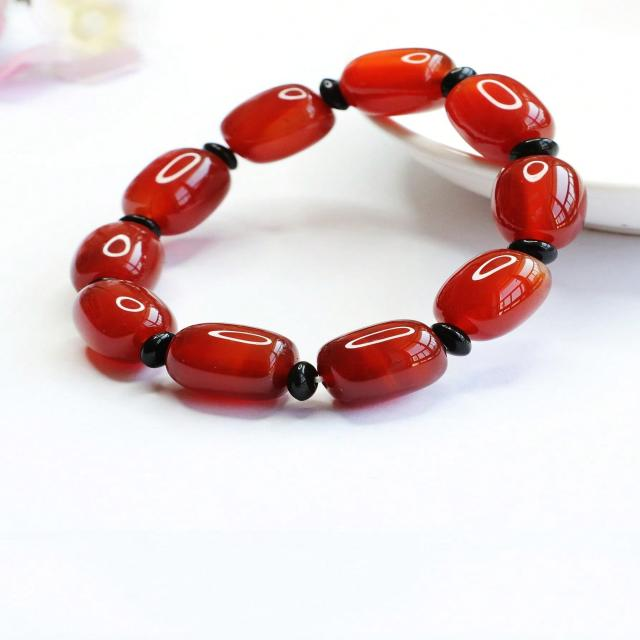bracelet: (46, 11, 640, 429)
